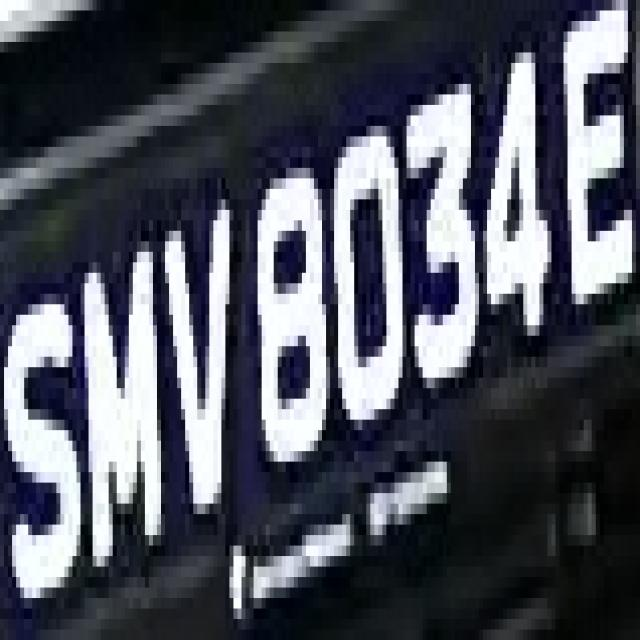0: (322, 126, 415, 441)
3: (403, 63, 479, 399)
4: (471, 11, 563, 357)
8: (258, 126, 338, 493)
E: (543, 11, 636, 326)
M: (65, 220, 177, 598)
S: (0, 4, 1, 11)
V: (153, 178, 245, 514)
